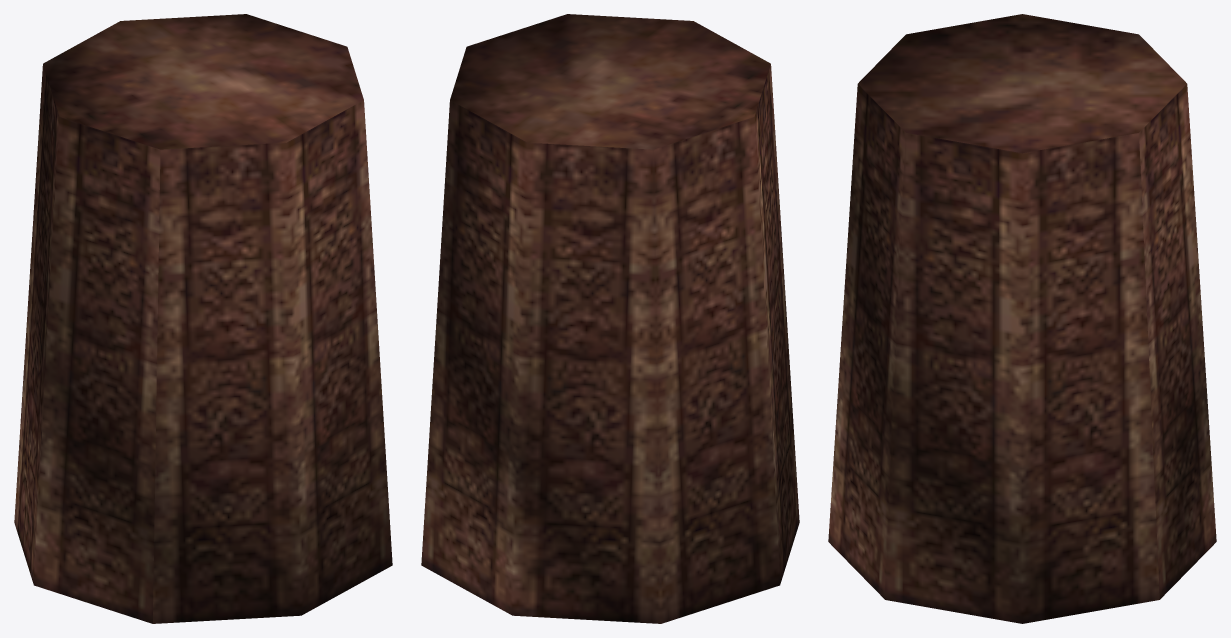
Rendered from general_obj_bigtower08.glb.
The picture shows the model from 3 angles, left to right: view 1: azimuth 30°, elevation 25°; view 2: azimuth 150°, elevation 25°; view 3: azimuth 270°, elevation 25°; orthographic projection.
Visible parts, largest first — view 1: Sphere01; view 2: Sphere01; view 3: Sphere01.
Boxes of the visible parts, box(x1,y1,x2,y2) form: Sphere01: box(14, 14, 392, 623); Sphere01: box(421, 14, 799, 623); Sphere01: box(828, 14, 1216, 623).
Size of the model in its own units: 3.7 by 4.82 by 3.7.
Materials: 1 (1 with a texture image).
